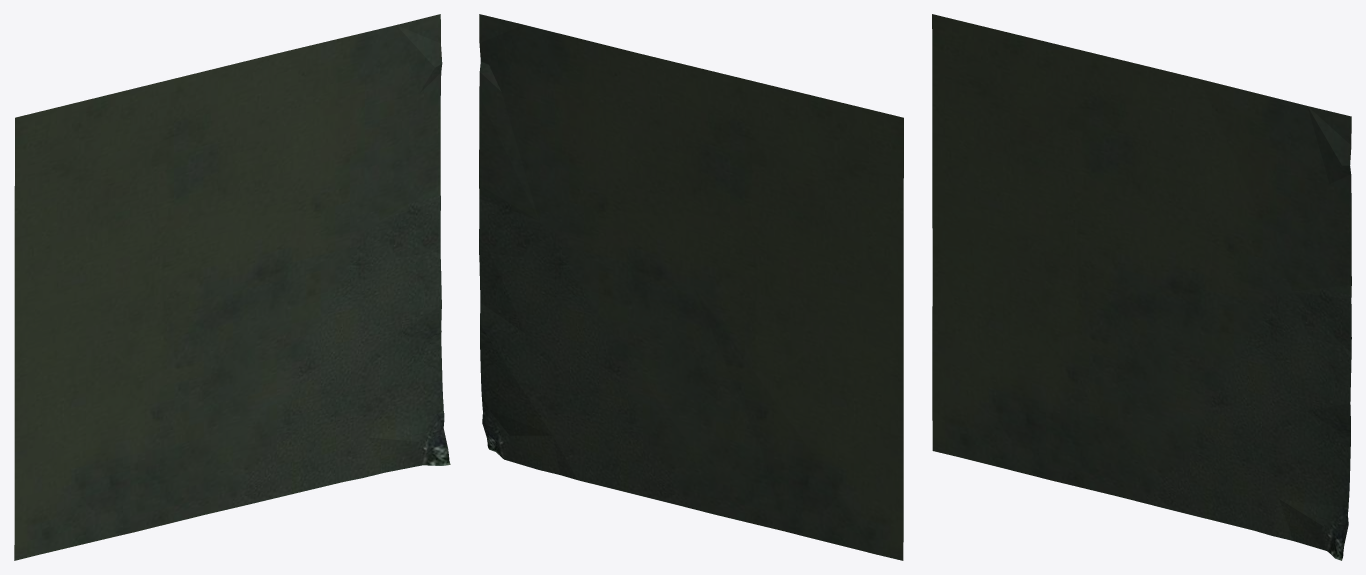
File: Tile_+032_+024_L20_0003230.obj
3 views of the same model, side by side, from view 1: azimuth 30°, elevation 25°; view 2: azimuth 150°, elevation 25°; view 3: azimuth 330°, elevation 25° (orthographic).
Bounding box in the file's own units: 31.5 × 31.38 × 1.37.
Materials: 1 (1 with a texture image).
